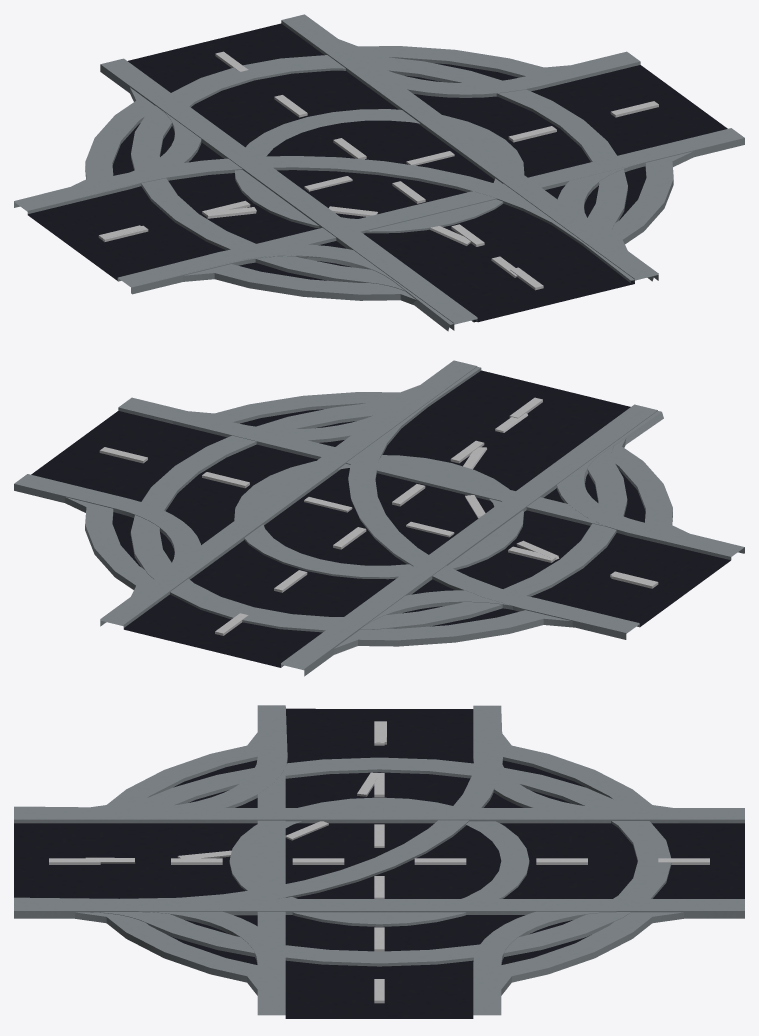
File: Modular roads_ari.fbx
3 views of the same model, one above another, from view 1: azimuth 30°, elevation 25°; view 2: azimuth 150°, elevation 25°; view 3: azimuth 270°, elevation 25° (orthographic). The views are drawn at different scales.
Visible parts, largest first — view 1: Strait Road, Turning Road, Middle Cross, 4 Cross Roundabout, Road That Goes Nowhere, 4 Lane Cross; view 2: Strait Road, Middle Cross, Turning Road, 4 Cross Roundabout, Road That Goes Nowhere, 4 Lane Cross; view 3: Strait Road, Middle Cross, Turning Road, 4 Cross Roundabout, Road That Goes Nowhere, 4 Lane Cross.
Boxes of the visible parts, <box> form: Strait Road: <box>100,14,658,323</box>; Turning Road: <box>15,156,653,331</box>; Middle Cross: <box>14,21,744,287</box>; 4 Cross Roundabout: <box>14,22,744,330</box>; Road That Goes Nowhere: <box>131,55,656,329</box>; 4 Lane Cross: <box>14,22,744,323</box>; Strait Road: <box>100,360,657,669</box>; Middle Cross: <box>14,397,725,670</box>; Turning Road: <box>348,366,744,637</box>; 4 Cross Roundabout: <box>14,385,744,676</box>; Road That Goes Nowhere: <box>130,392,627,632</box>; 4 Lane Cross: <box>105,410,683,675</box>; Strait Road: <box>14,808,744,917</box>; Middle Cross: <box>257,705,744,1017</box>; Turning Road: <box>14,705,502,898</box>; 4 Cross Roundabout: <box>14,732,744,1018</box>; Road That Goes Nowhere: <box>14,757,671,966</box>; 4 Lane Cross: <box>14,743,744,1018</box>.
Bounding box in the file's own units: 601 × 8.13 × 600.
1 material, 1 textured.
